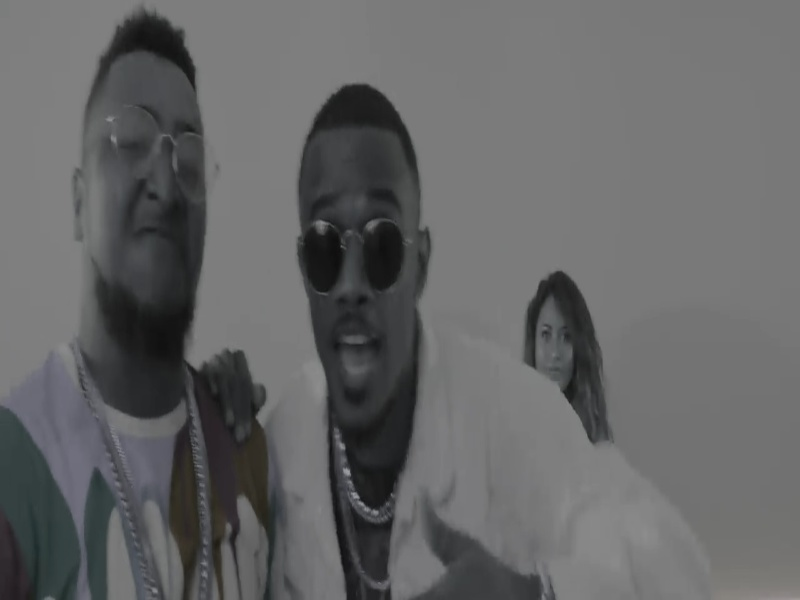TsisyArotava: (52, 34, 244, 375), (281, 83, 441, 446), (516, 266, 616, 411)
